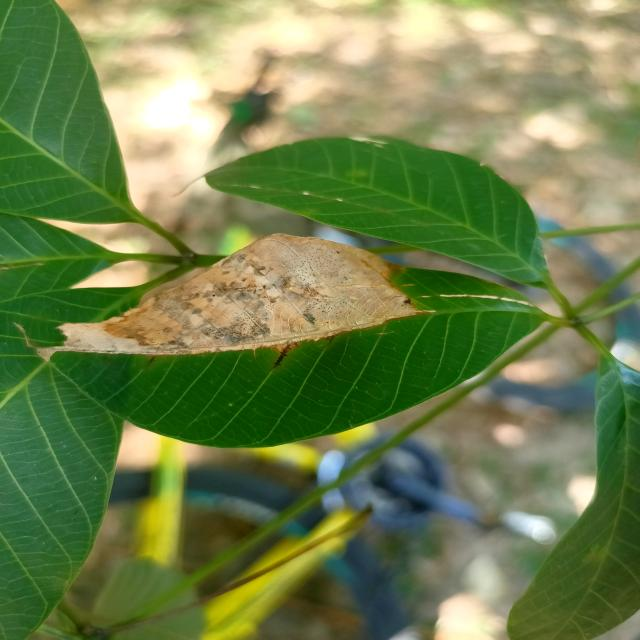Corynespora: (273, 344, 292, 368)
Leaf-Blight: (36, 233, 435, 362)
